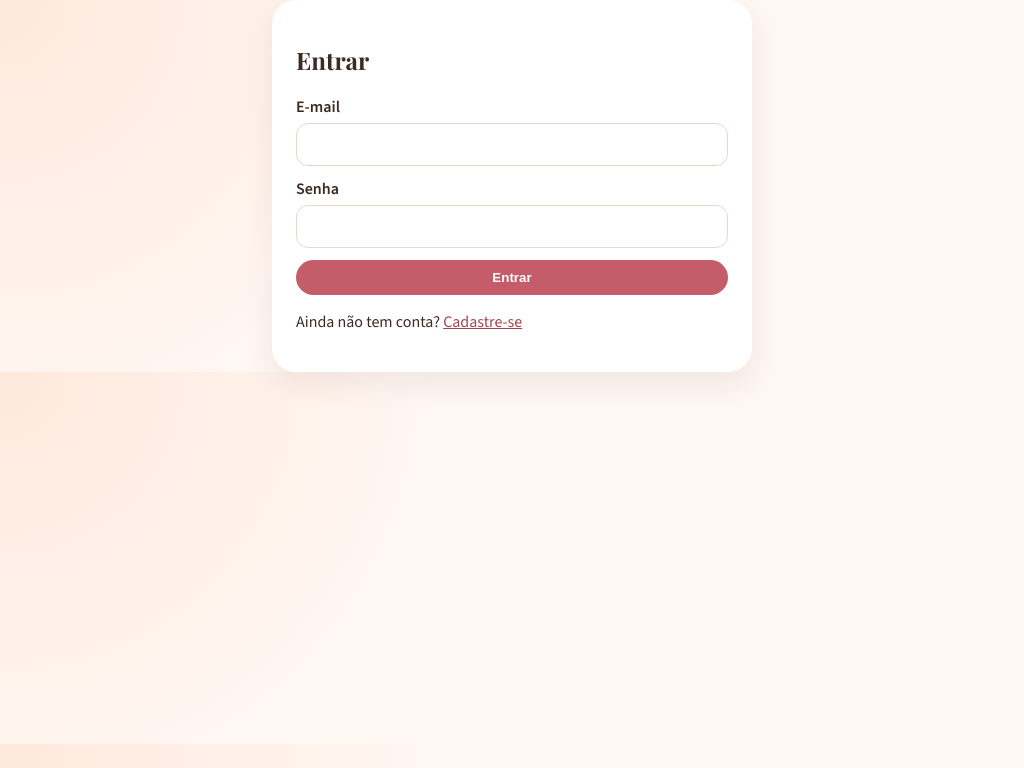
Login › mostra erro quando as credenciais são inválidas
This screenshot has width=1024, height=768.
In the field labelled "E-mail": (512, 144) 296,123 -> 728,166, type "ana@loja.com"
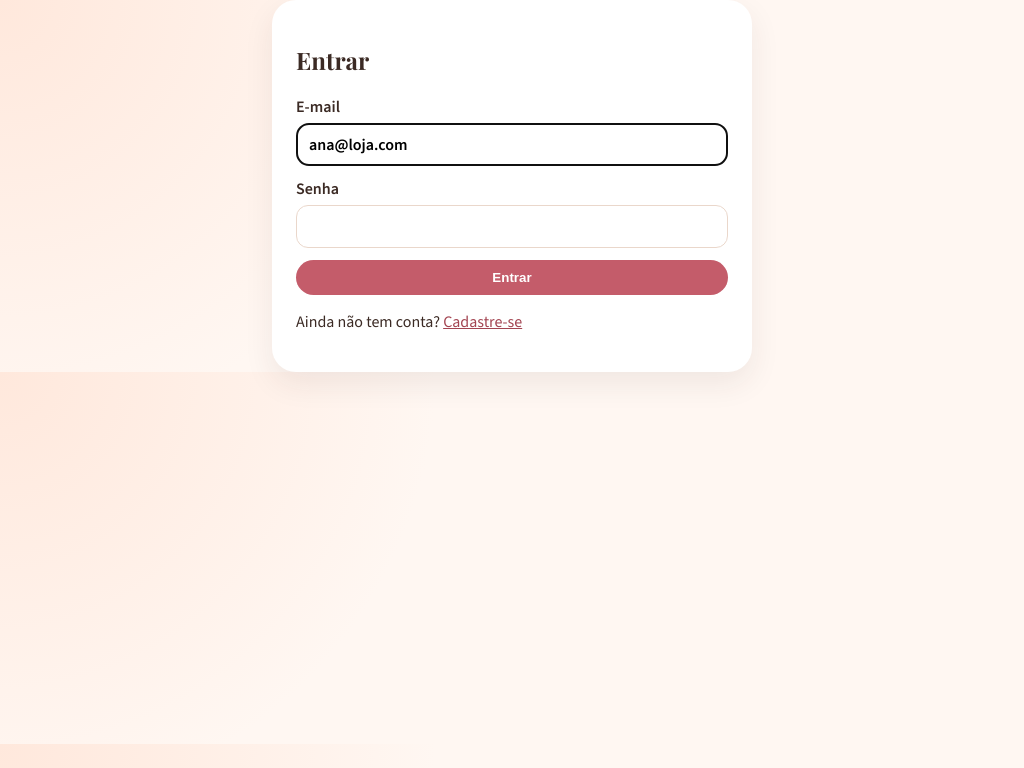
In the password field labelled "Senha": (512, 226) 296,205 -> 728,248, type "errada"
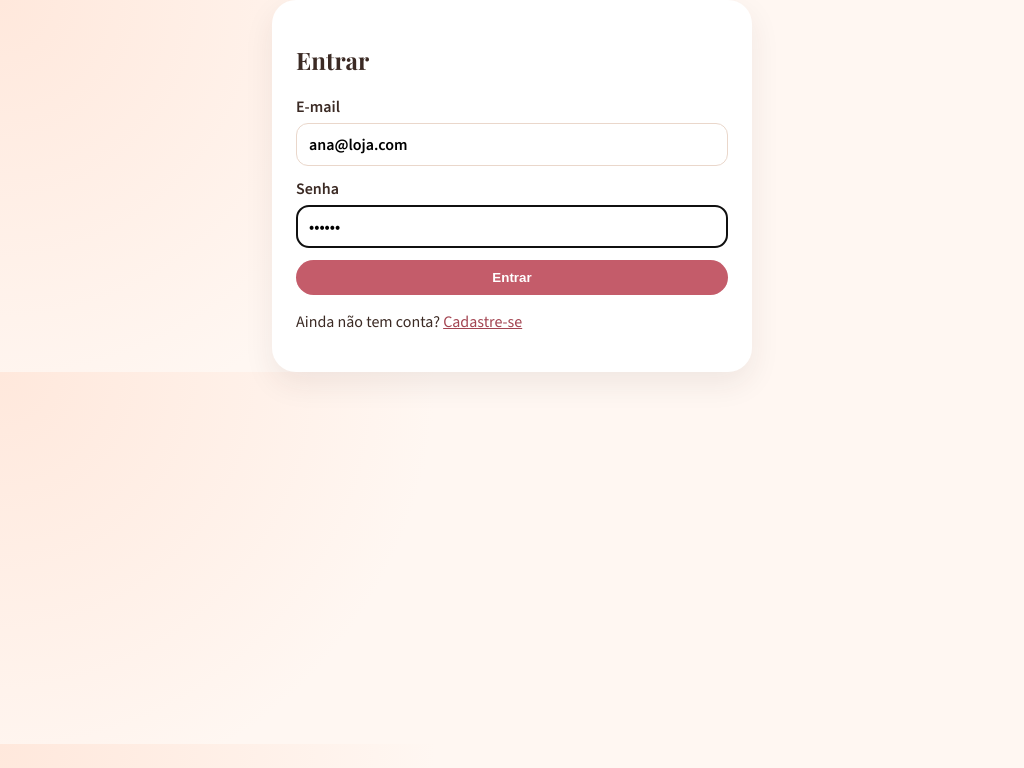
Click the button "Entrar": (512, 277) 296,260 -> 728,295
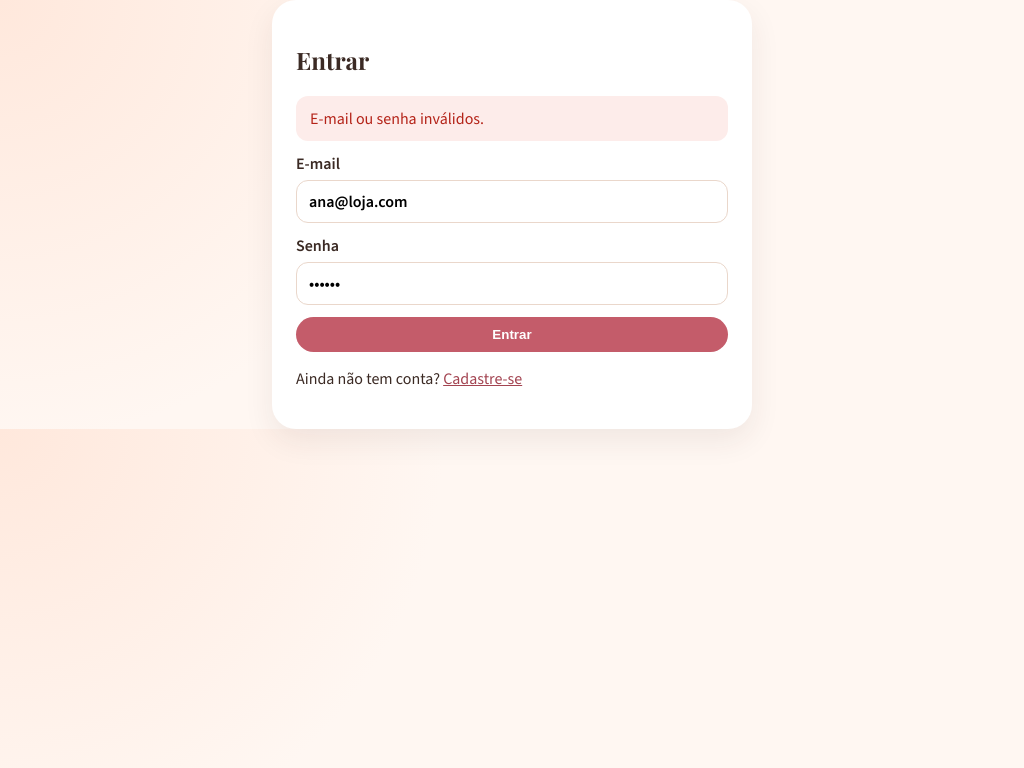
Expected: the message reads "E-mail ou senha inválidos.", 310,108 -> 484,129
